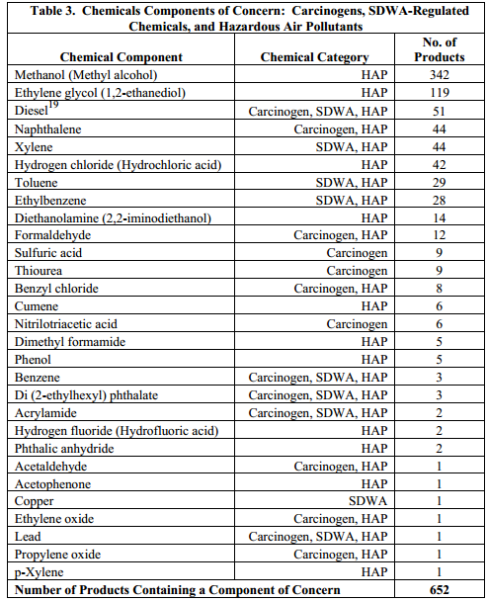fracking table: (5, 1, 487, 600)
